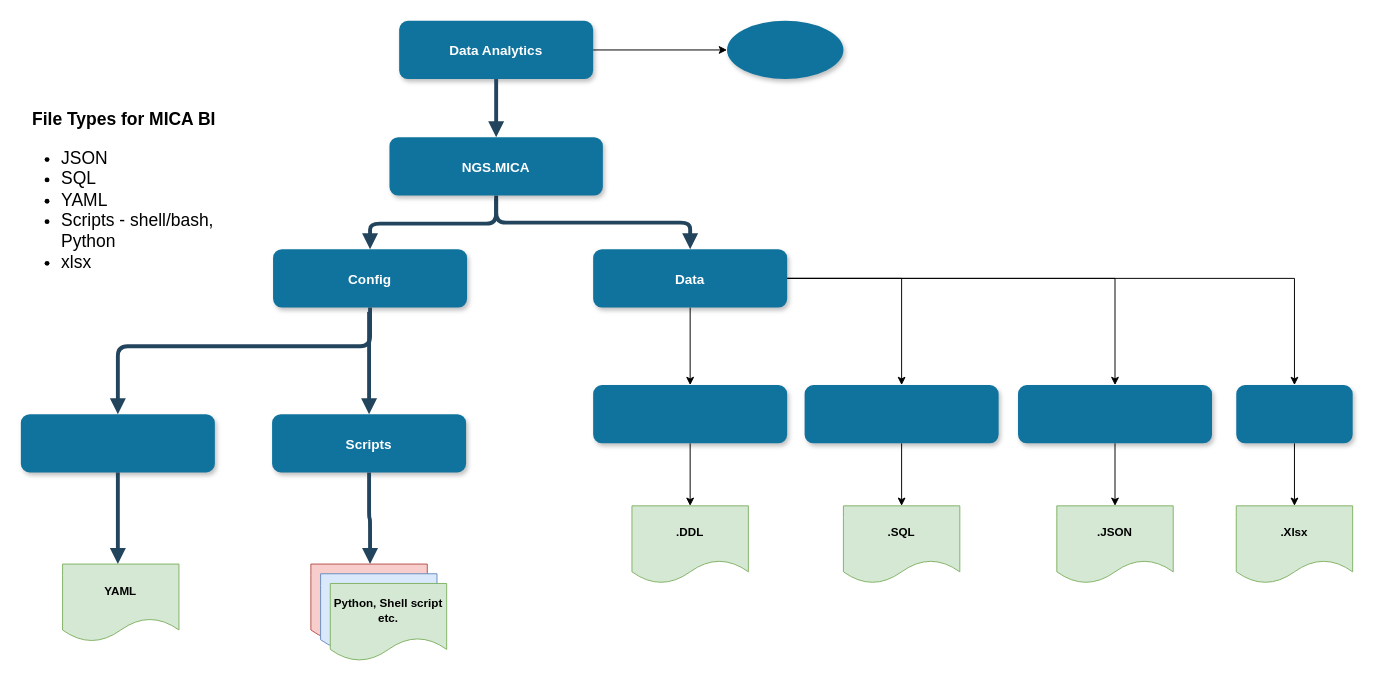
Image size: 1374x678. Some labels were removed from this diagram. Here are the shapes that lost their labels. From the top down, the centre of each, then its label:
point (786, 50): Repo Name (Confirmed)
point (690, 415): DDL
point (902, 415): SQL
point (1115, 415): Matillion Jobs
point (1295, 415): Test Cases
point (118, 444): Pipeline
